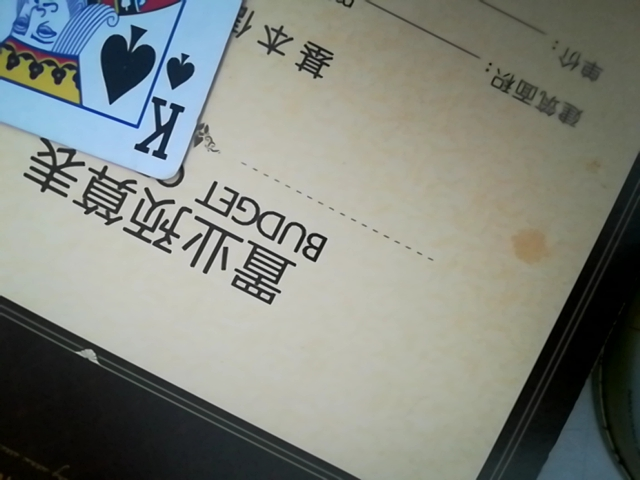ht k: (0, 1, 340, 189)
